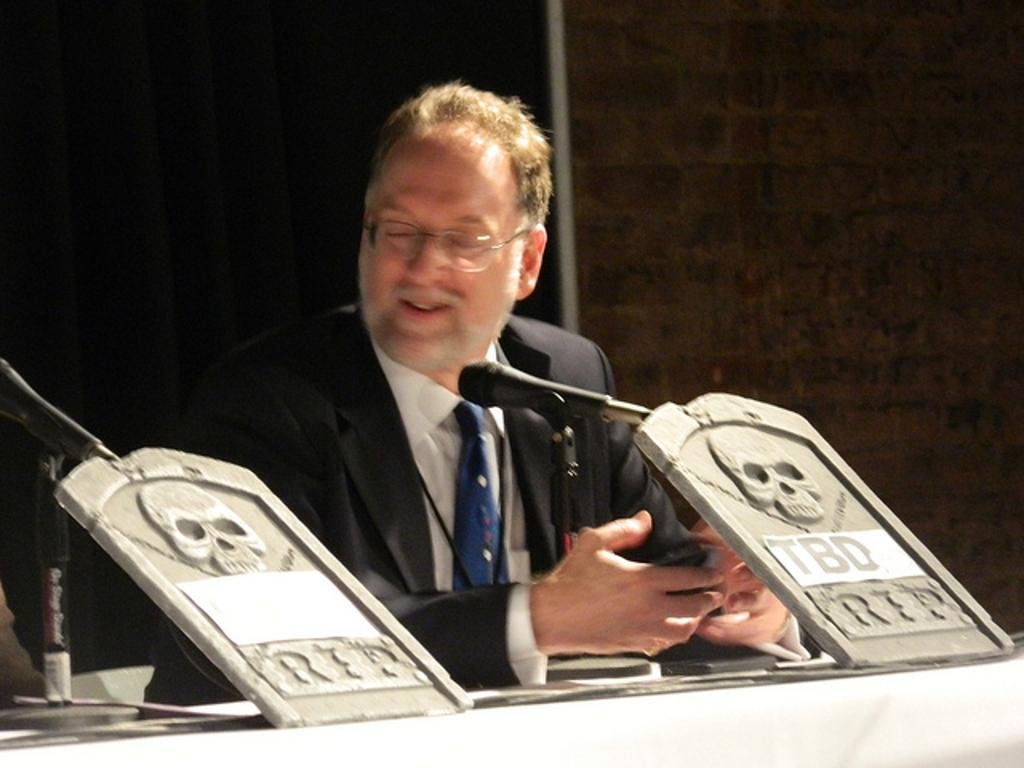face: (359, 131, 517, 375)
